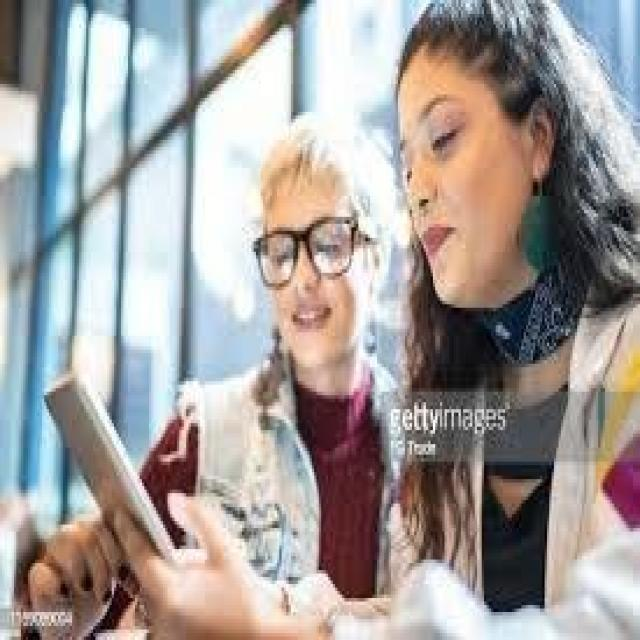person: (93, 4, 633, 636), (9, 70, 412, 622)
